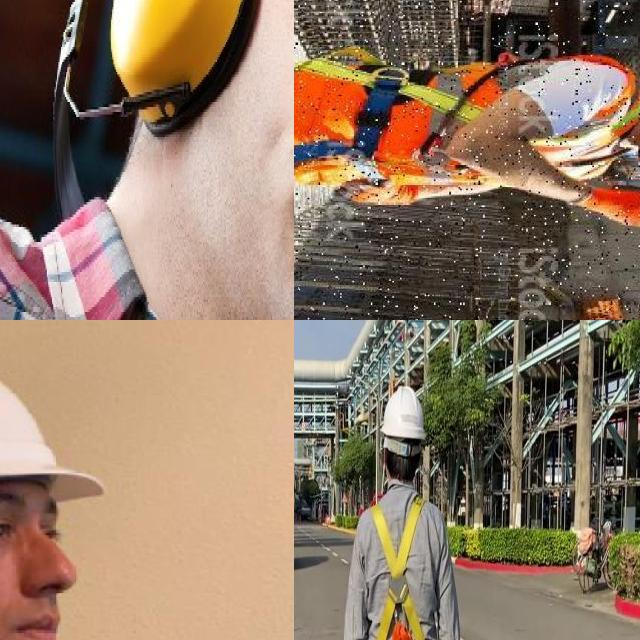Ear-protection: (102, 0, 262, 144)
Harness: (294, 47, 640, 198), (371, 496, 426, 640)
No_Glasses: (0, 479, 78, 560)
head_helmet: (165, 0, 294, 244)
